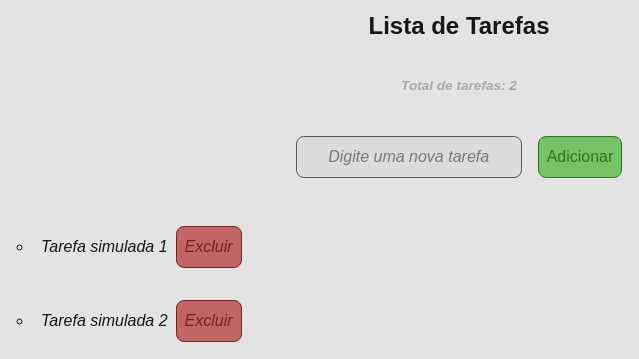
Test: Renderização da Página/Gerenciador de Tarefas › deve remover uma tarefa e atualizar o contador ao clicar em Excluir
Expected: the text "Tarefa simulada 1" is shown, [41,238,168,255]
Clica no botão de excluir da primeira tarefa
Click the button "Excluir" next to "Tarefa simulada 1": x=209, y=247 [176,226,242,268]
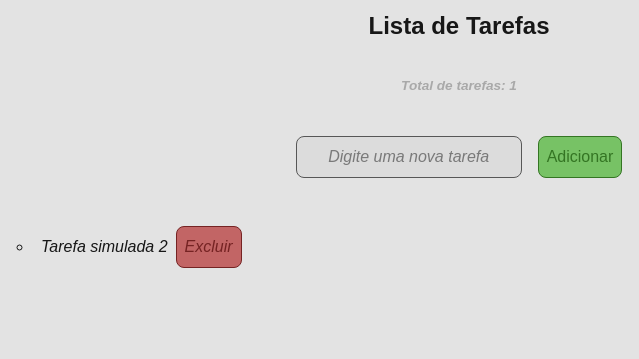
Expected: the text "Tarefa simulada 2" is shown, [41,238,168,255]
Result: the text "Tarefa simulada 1" is gone
Result: the text "Total de tarefas: 1" is shown at [401,78,517,93]
